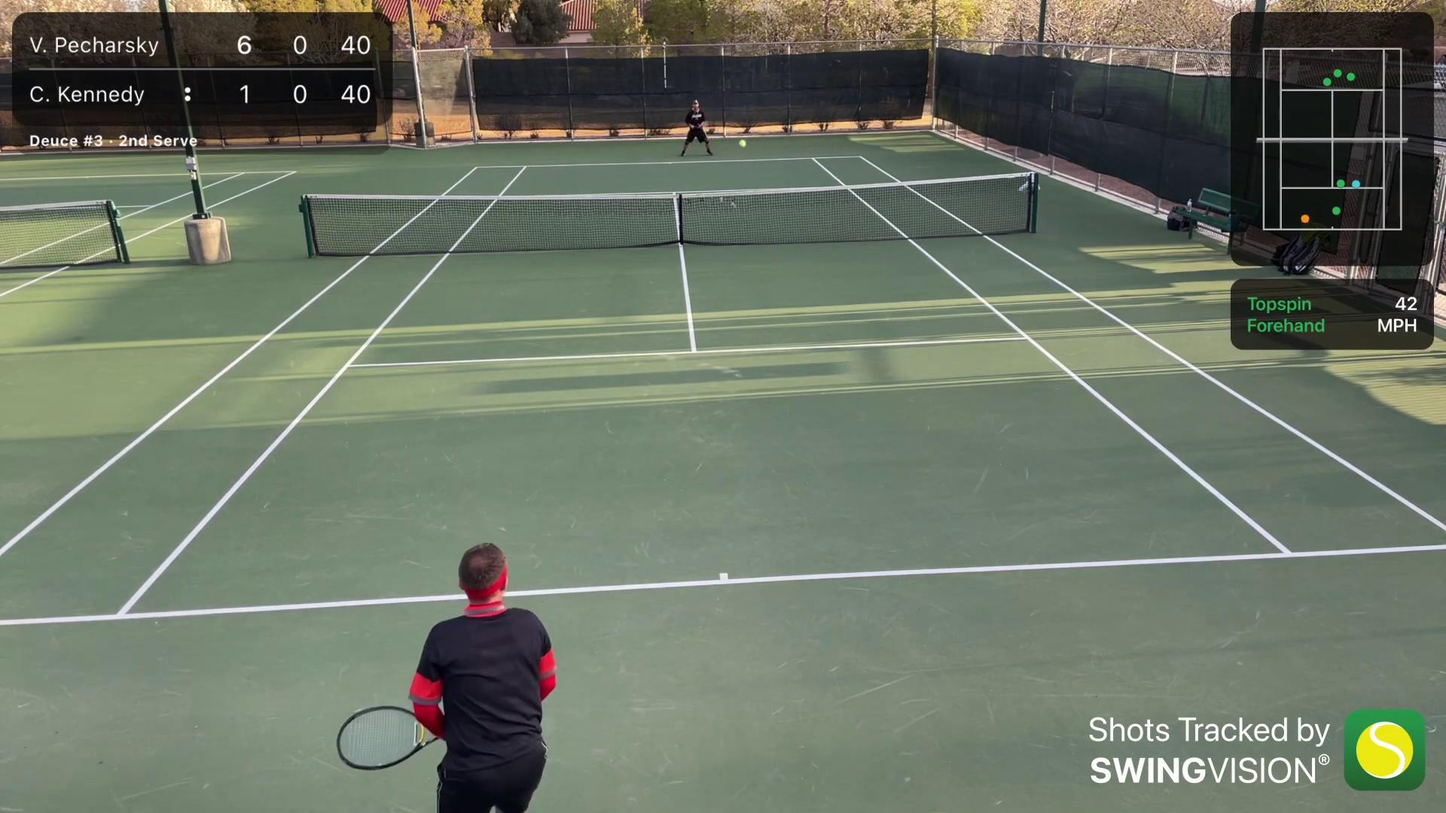ball: (738, 138, 747, 149)
